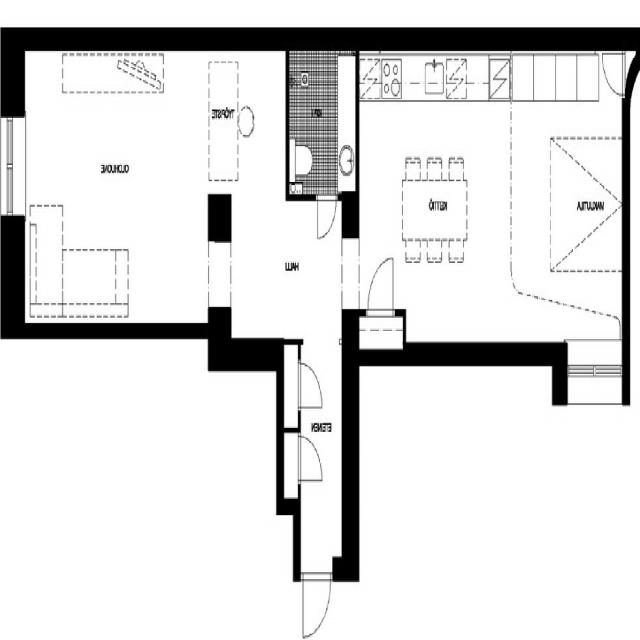door: (304, 572, 330, 637), (368, 258, 394, 316), (298, 363, 323, 407), (298, 436, 322, 480), (317, 193, 337, 240), (604, 54, 624, 91)
